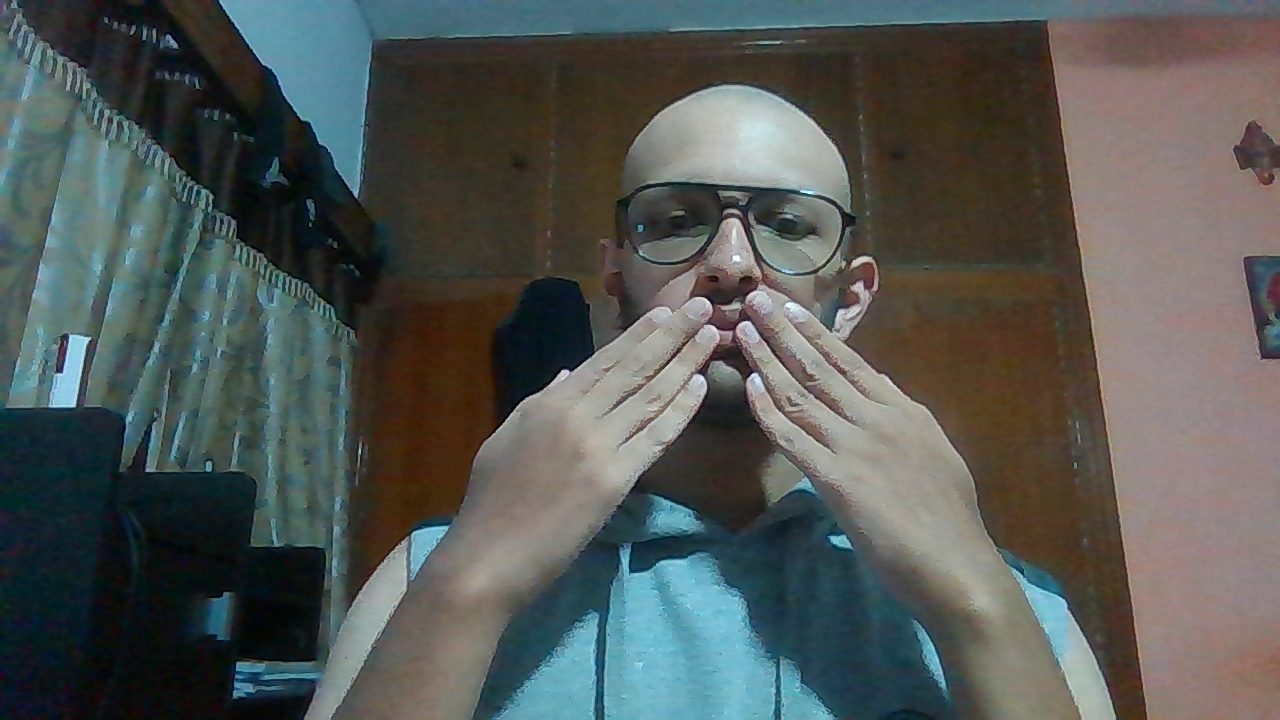Thank You: (463, 292, 1029, 558)
